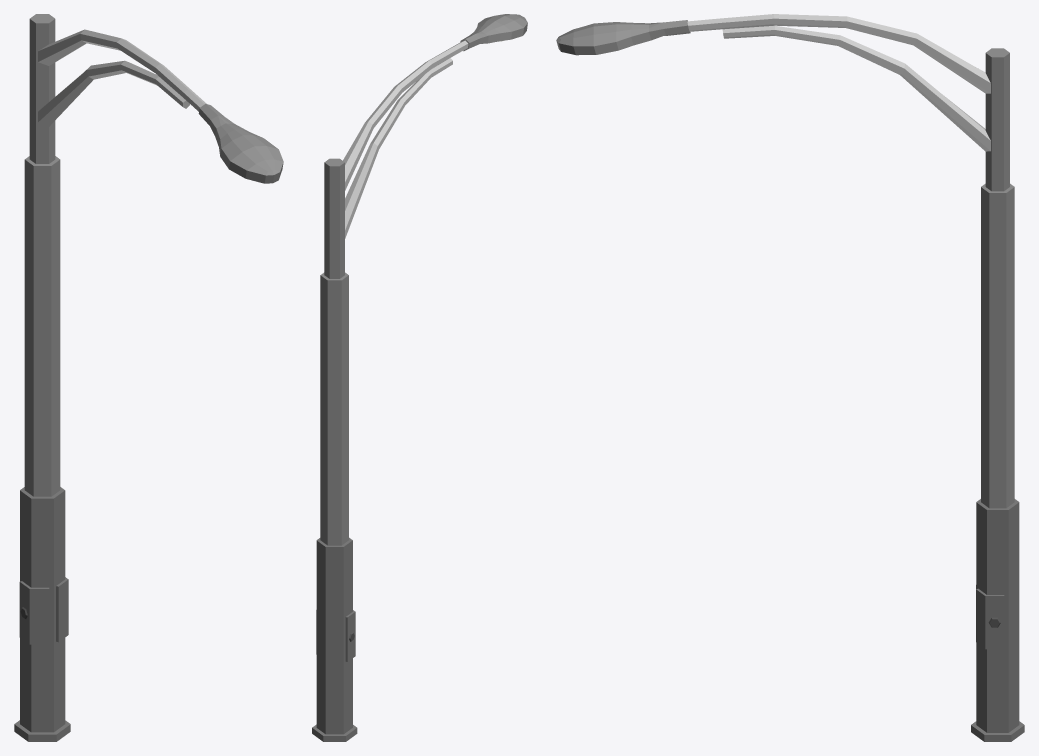
The model's file is Ext_StreetLamp01_2.fbx.
3 views of the same model, side by side, from view 1: azimuth 30°, elevation 25°; view 2: azimuth 150°, elevation 25°; view 3: azimuth 270°, elevation 25° (orthographic). The views are drawn at different scales.
Parts seen in each view (by area): view 1: Ext_StreetLamp01_1; view 2: Ext_StreetLamp01_1; view 3: Ext_StreetLamp01_1.
Boxes of the visible parts, bbox=[...] form: Ext_StreetLamp01_1: bbox=[14, 14, 283, 741]; Ext_StreetLamp01_1: bbox=[312, 14, 527, 741]; Ext_StreetLamp01_1: bbox=[556, 14, 1024, 741].
Size of what is drawn, in the model's own units: 31.04 by 272 by 460.
